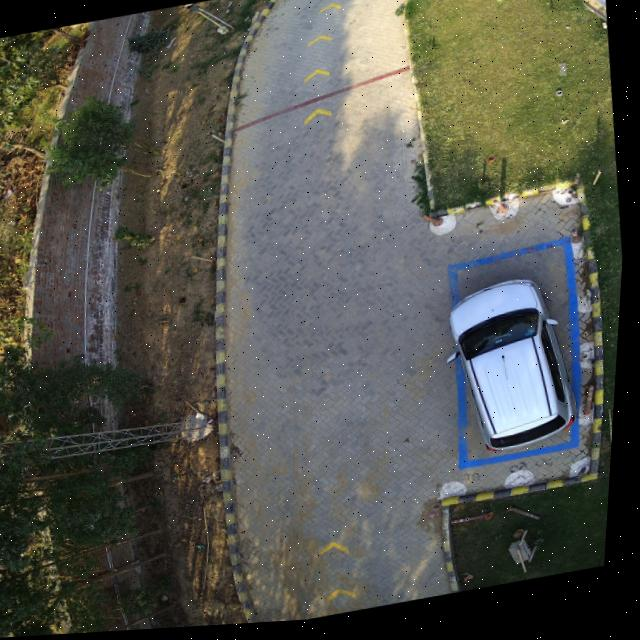car: (453, 284, 584, 457)
